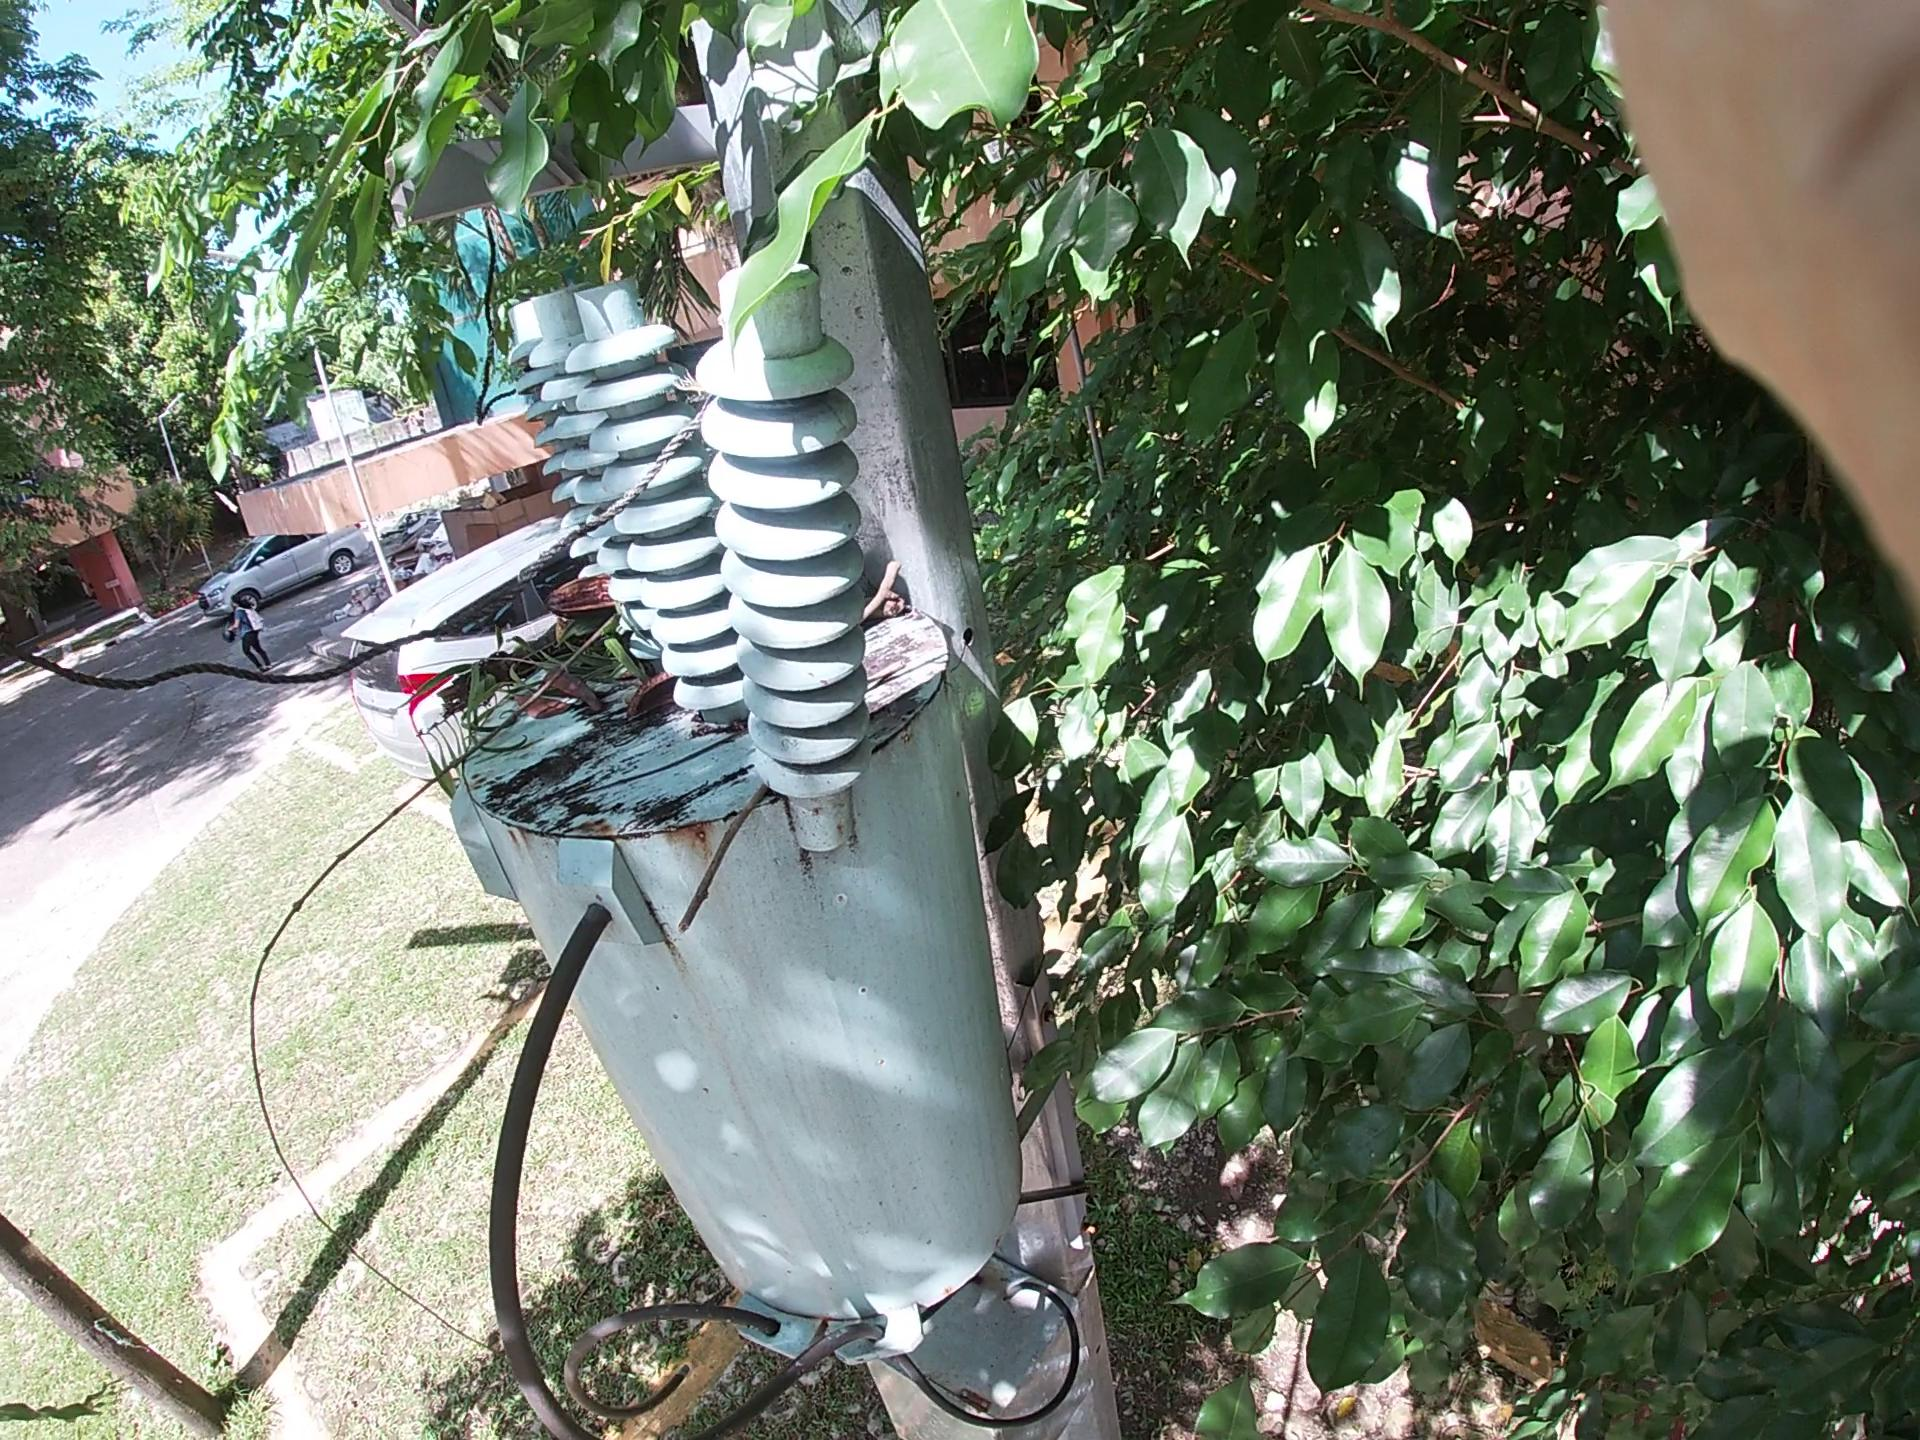branch with leaves: (463, 564, 655, 697)
leaf: (500, 678, 618, 740)
mahogany fruit: (612, 659, 763, 744), (570, 557, 692, 649)
tree branch: (234, 613, 618, 1044), (652, 728, 762, 991), (854, 525, 907, 685)
